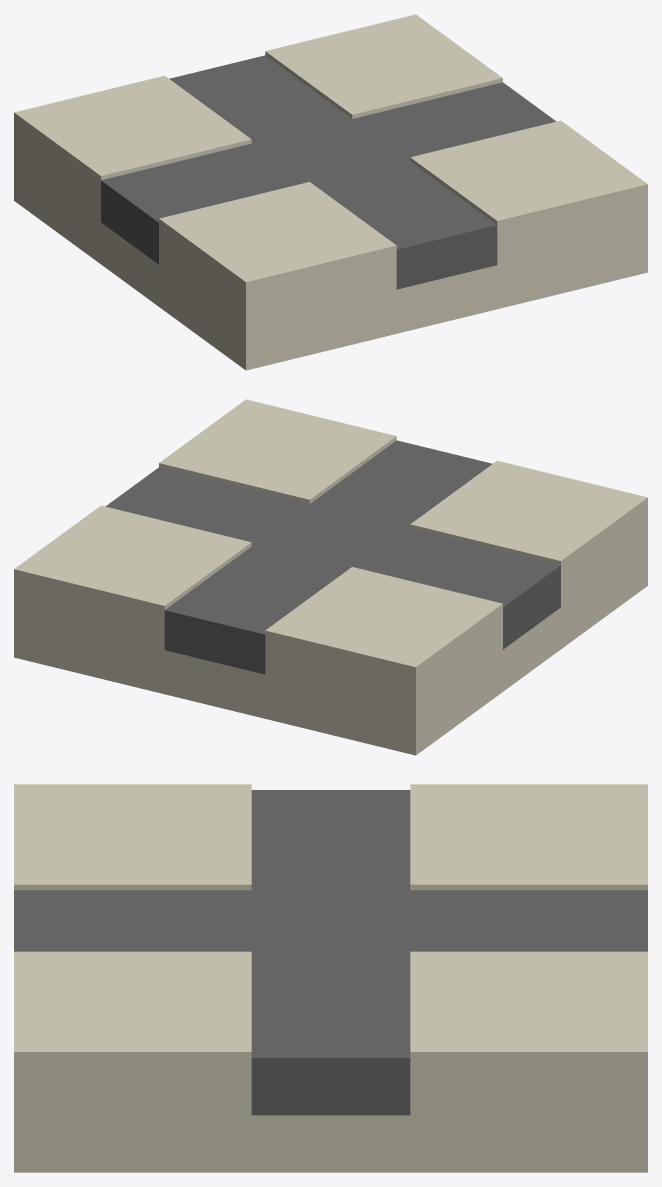
Rendered from roadTile_266.obj.
The picture shows the model from 3 angles, top to bottom: view 1: azimuth 30°, elevation 25°; view 2: azimuth 150°, elevation 25°; view 3: azimuth 270°, elevation 25°; orthographic projection. The views are drawn at different scales.
Visible parts, largest first — view 1: Mesh1_Group1_Model.265; view 2: Mesh1_Group1_Model.265; view 3: Mesh1_Group1_Model.265.
Part boxes in pixels (box(x1,y1,x2,y2)): Mesh1_Group1_Model.265: box(14, 14, 647, 370); Mesh1_Group1_Model.265: box(14, 399, 647, 755); Mesh1_Group1_Model.265: box(14, 784, 647, 1172).
Size of the model in its own units: 3 by 0.63 by 3.
